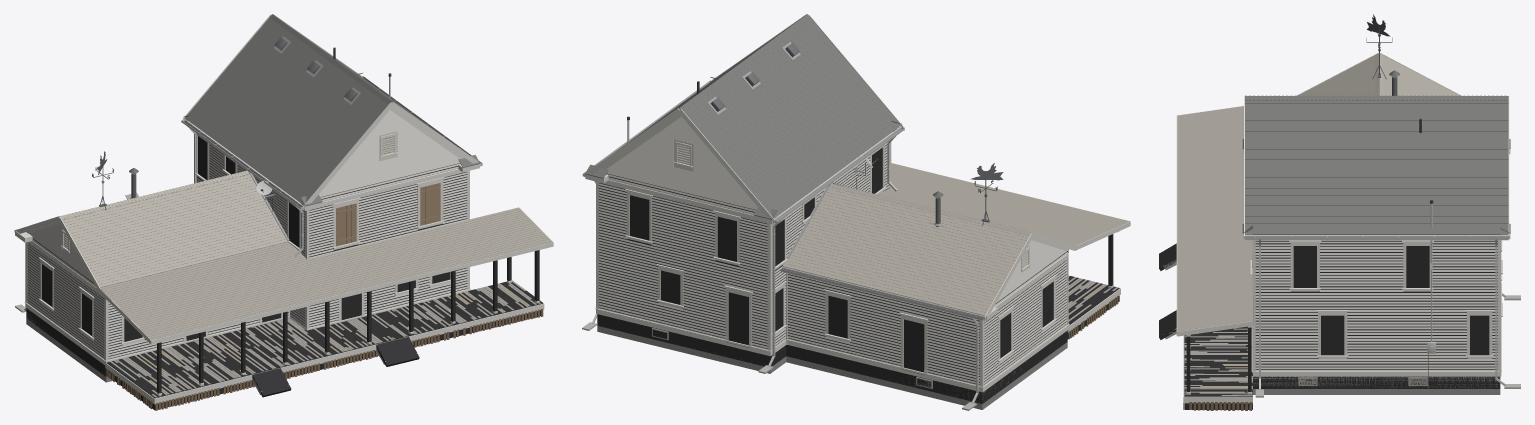
The model's file is neighbor_house.glb.
3 views of the same model, side by side, from view 1: azimuth 30°, elevation 25°; view 2: azimuth 150°, elevation 25°; view 3: azimuth 270°, elevation 25° (orthographic). The views are drawn at different scales.
Parts seen in each view (by area): view 1: nh_roofs, nh_static, COL_porch_w, COL_cs_0, COL_porch_m, COL_cww_0, COL_cw_0, COL_cws_0, COL_found_wing, COL_steps, COL_steps.001; view 2: nh_static, nh_roofs, COL_cn_0, COL_cwn_0, COL_found_wing, COL_cww_0, COL_cw_0, COL_shell_main, COL_found_main, COL_porch_w, COL_shell_wing; view 3: nh_roofs, nh_static, COL_ce_0, COL_porch_m, COL_found_main, COL_steps, COL_steps.001.
Boxes of the visible parts, bbox=[...] form: nh_roofs: bbox=[59, 14, 552, 340]; nh_static: bbox=[14, 14, 553, 410]; COL_porch_w: bbox=[106, 320, 338, 409]; COL_cs_0: bbox=[309, 163, 467, 327]; COL_porch_m: bbox=[308, 282, 543, 364]; COL_cww_0: bbox=[27, 238, 104, 358]; COL_cw_0: bbox=[196, 136, 305, 326]; COL_cws_0: bbox=[108, 304, 288, 358]; COL_found_wing: bbox=[26, 308, 107, 376]; COL_steps: bbox=[376, 337, 419, 366]; COL_steps.001: bbox=[252, 368, 291, 397]; nh_static: bbox=[582, 14, 1130, 410]; nh_roofs: bbox=[618, 14, 1129, 315]; COL_cn_0: bbox=[599, 173, 767, 348]; COL_cwn_0: bbox=[787, 274, 979, 384]; COL_found_wing: bbox=[786, 336, 1067, 403]; COL_cww_0: bbox=[984, 251, 1067, 384]; COL_cw_0: bbox=[772, 144, 889, 345]; COL_shell_main: bbox=[597, 314, 786, 364]; COL_found_main: bbox=[597, 323, 786, 366]; COL_porch_w: bbox=[1067, 276, 1119, 338]; COL_shell_wing: bbox=[786, 330, 1067, 401]; nh_roofs: bbox=[1177, 53, 1508, 331]; nh_static: bbox=[1163, 14, 1520, 410]; COL_ce_0: bbox=[1255, 241, 1497, 369]; COL_porch_m: bbox=[1184, 326, 1252, 409]; COL_found_main: bbox=[1253, 376, 1500, 388]; COL_steps: bbox=[1159, 310, 1176, 339]; COL_steps.001: bbox=[1159, 243, 1176, 270].
Size of the model in its own units: 18.69 by 10.27 by 13.17.
